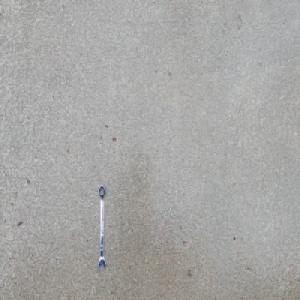Wrench: (98, 183, 107, 272)
